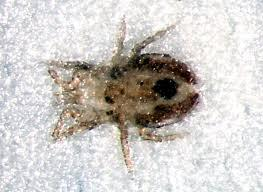Insects: (38, 11, 213, 176)
